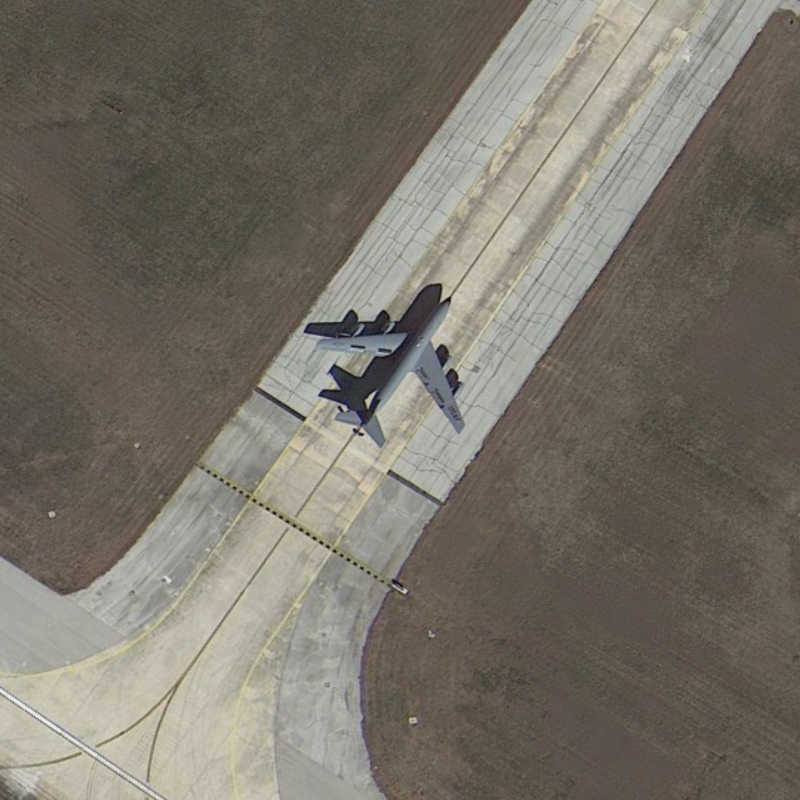A14: (308, 286, 482, 448)
